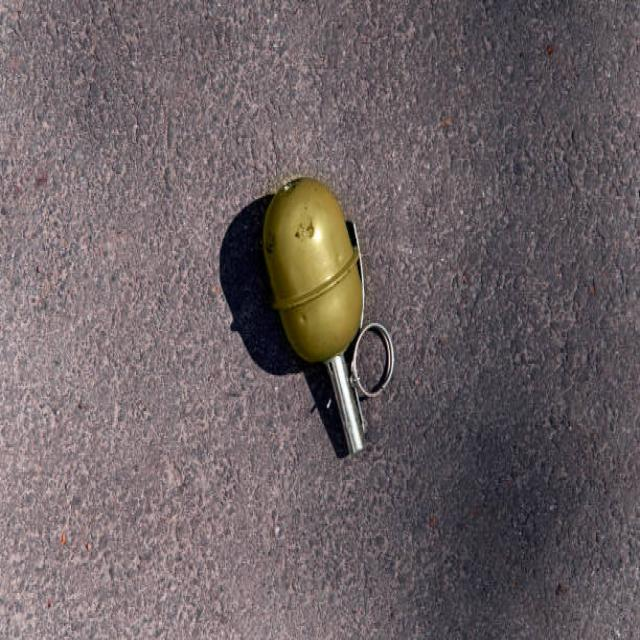grenade: (258, 164, 397, 464)
